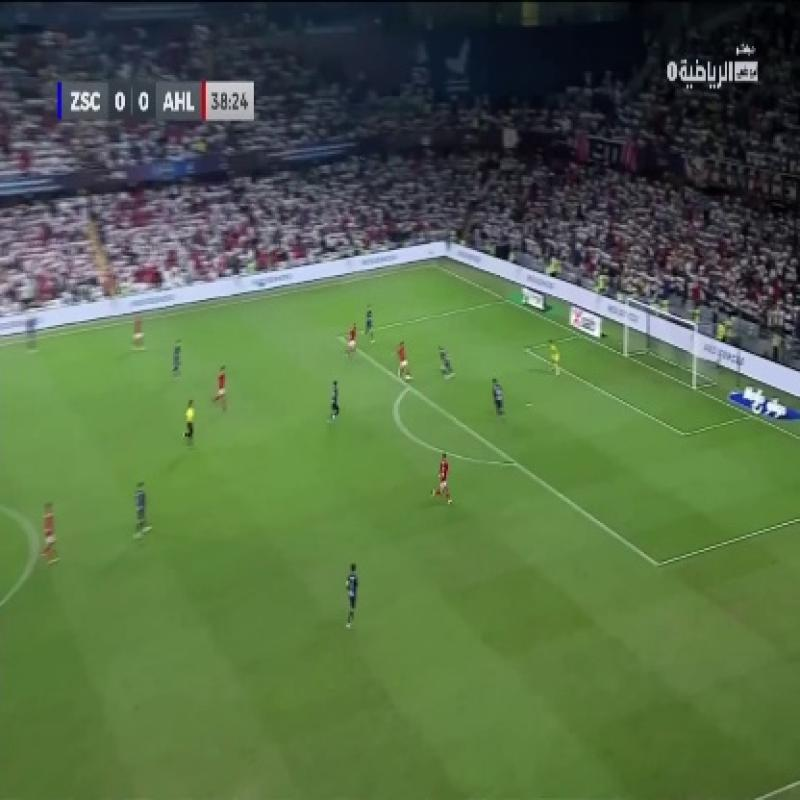1: (431, 262, 440, 268)
10: (404, 376, 414, 392)
11: (510, 454, 522, 472)
12: (650, 552, 666, 575)
2: (496, 296, 506, 306)
3: (571, 328, 579, 338)
4: (746, 410, 754, 419)
7: (519, 340, 529, 354)
8: (676, 425, 688, 440)
9: (337, 330, 350, 346)
c: (20, 524, 53, 564)
